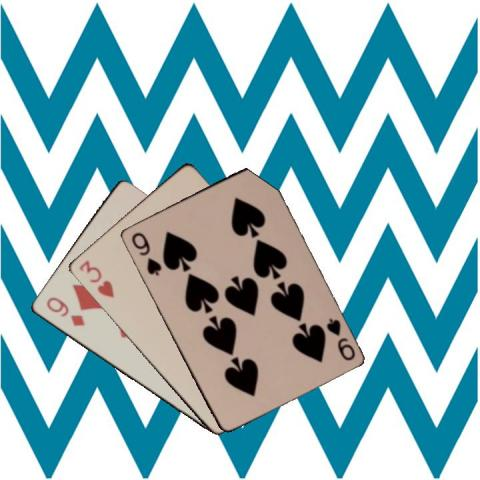3h: (76, 257, 115, 299)
9d: (43, 294, 86, 328)
9s: (128, 229, 163, 277), (322, 315, 356, 362)
